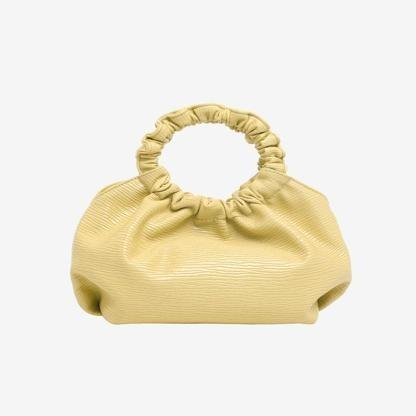not trash: (68, 101, 356, 327)
